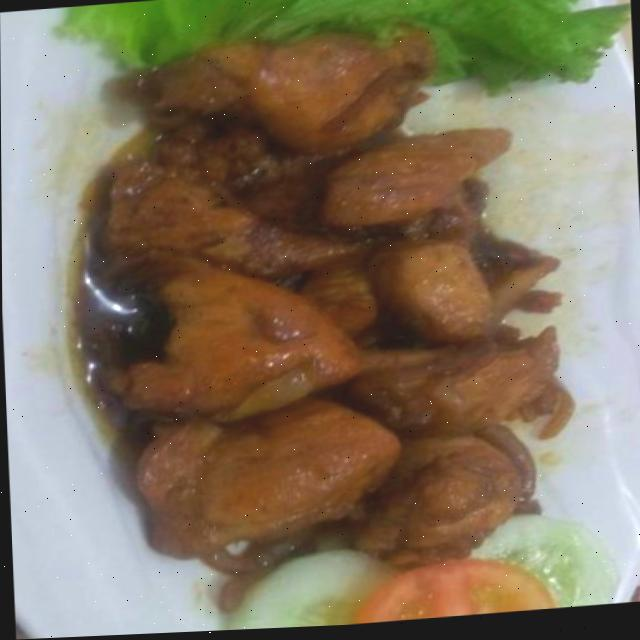鸡肉料理 含炸鸡: (63, 2, 624, 603)
